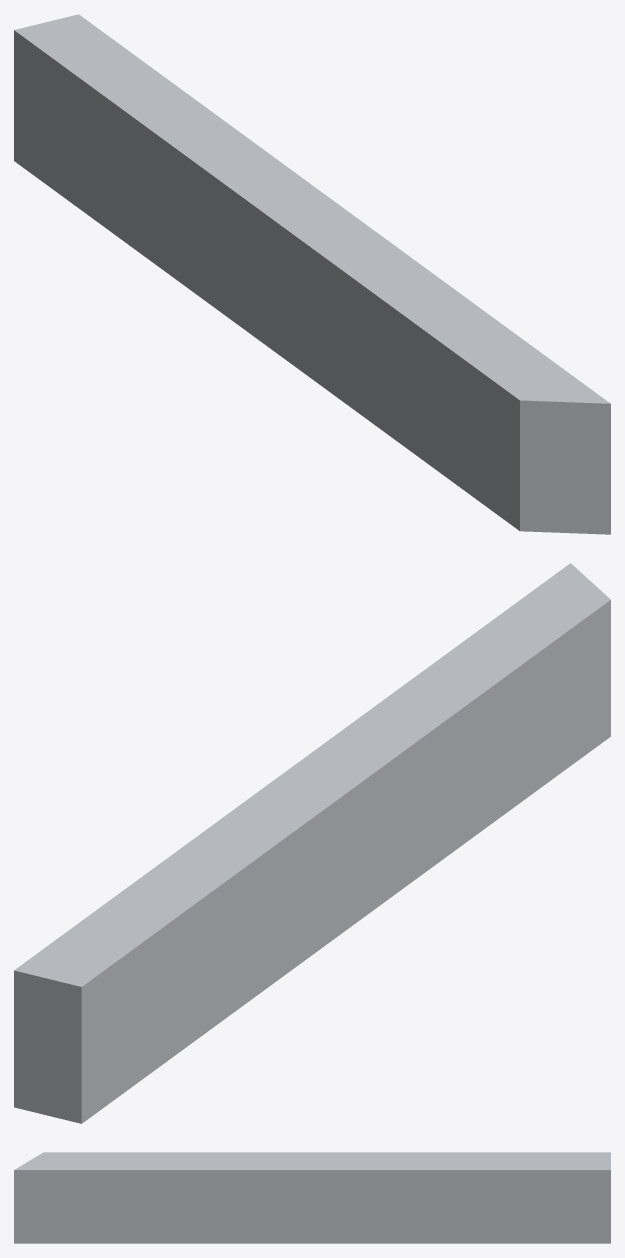
File: ground_13.gltf
3 renders of one model, top to bottom at view 1: azimuth 30°, elevation 25°; view 2: azimuth 150°, elevation 25°; view 3: azimuth 270°, elevation 25°, orthographic. The views are drawn at different scales.
Parts seen in each view (by area): view 1: ground_35; view 2: ground_35; view 3: ground_35.
Boxes of the visible parts, x1=… form: ground_35: x1=14, y1=14, x2=610, y2=534; ground_35: x1=14, y1=563, x2=610, y2=1123; ground_35: x1=14, y1=1152, x2=610, y2=1243.
Bounding box in the file's own units: 0.5941 × 1.15 × 8.45.
Materials: 1 (1 with a texture image).
